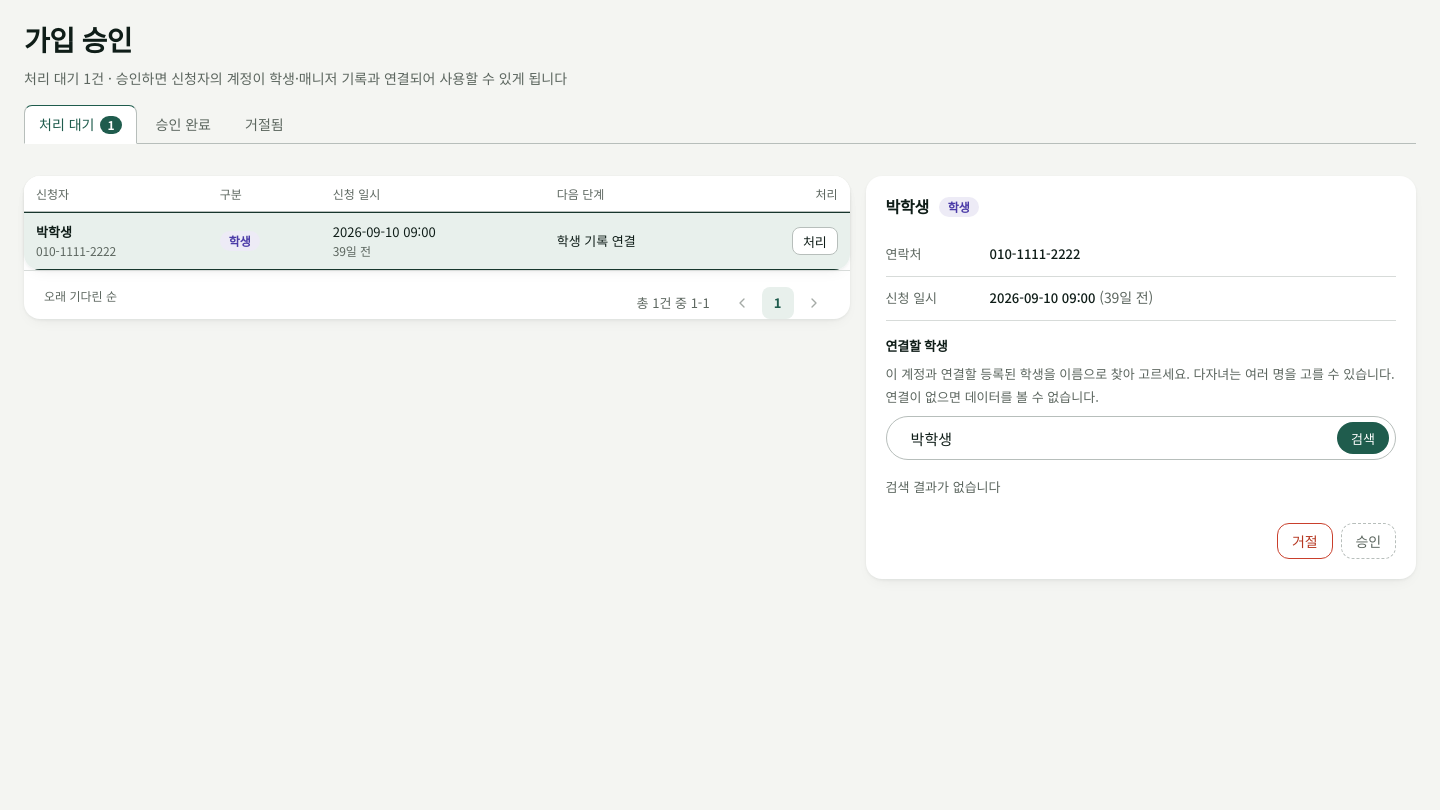
Test: SignupApprovalPage — 목록 + 승인/거절 › 학생·기사 승인은 신청자 이름으로 먼저 후보를 검색한다
Click the button "처리": (815, 241) [792, 227, 838, 255]
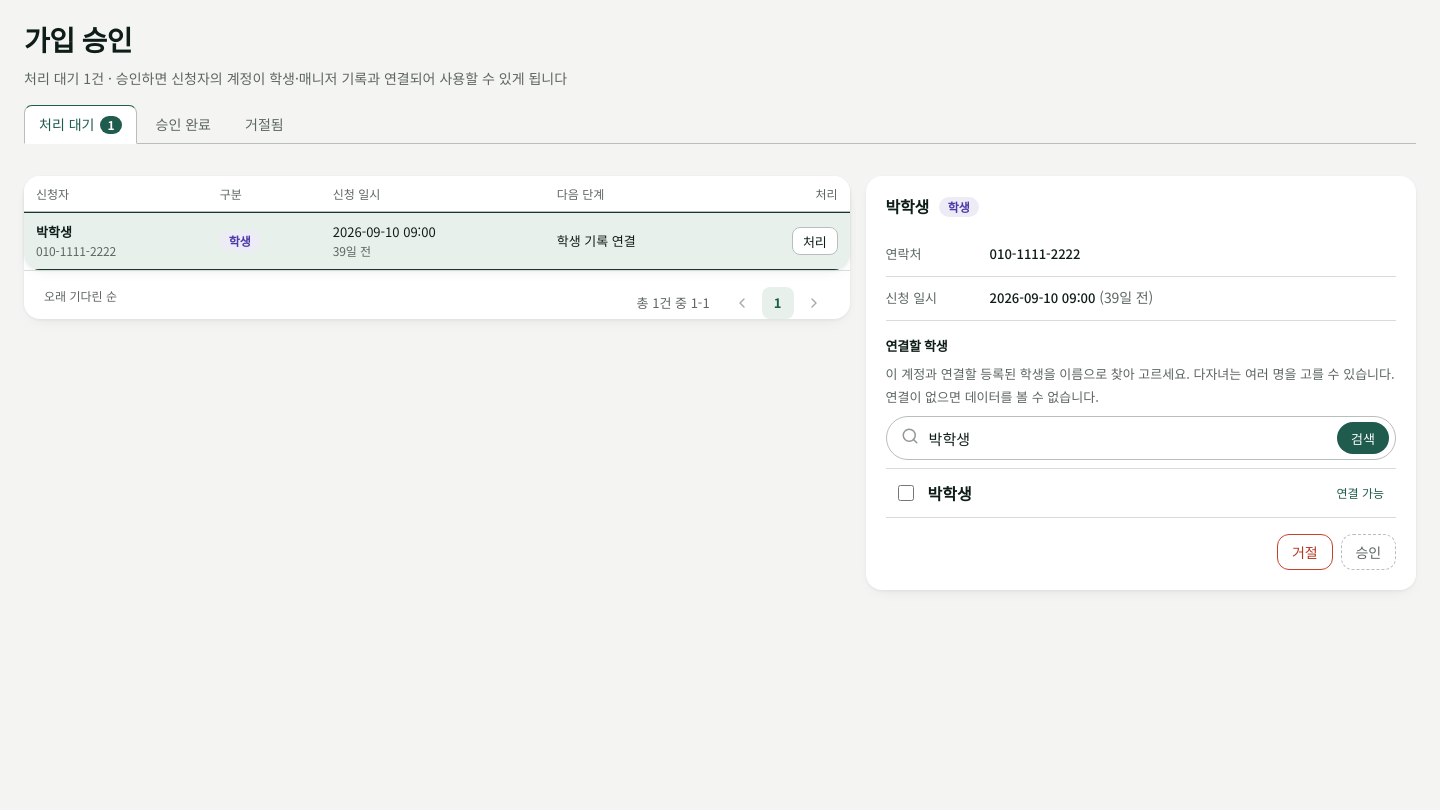
Check: the field with placeholder "학생 이름으로 검색" holds "박학생", box [927, 427, 1329, 450]
Check: the checkbox labelled "박학생 연결 가능" is shown, box [898, 485, 914, 501]
